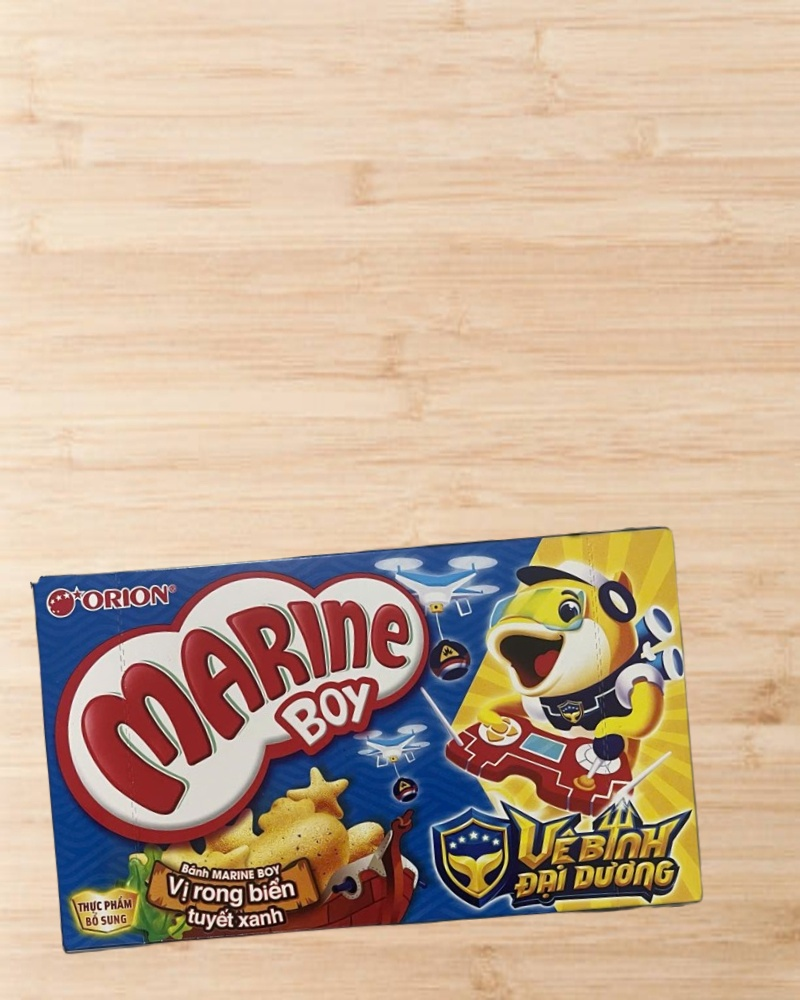Marine: (33, 522, 707, 959)
